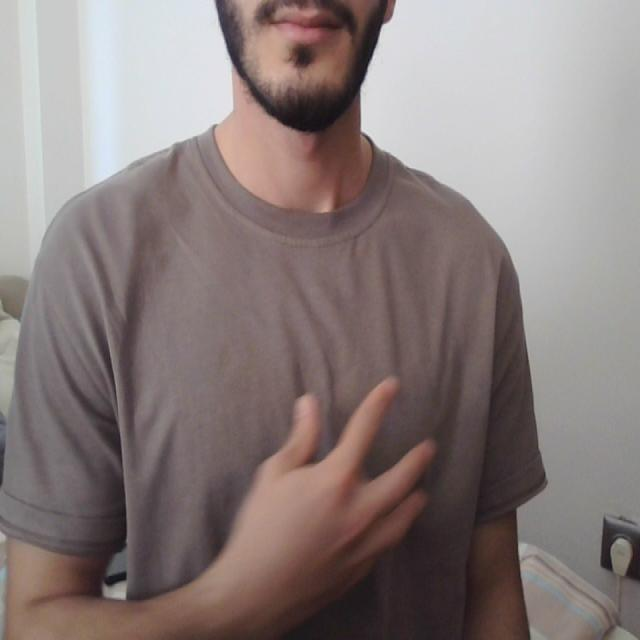Anne: (119, 367, 519, 612)
